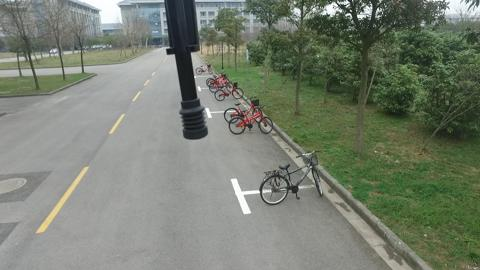bike: (250, 152, 325, 211), (220, 92, 276, 145)
